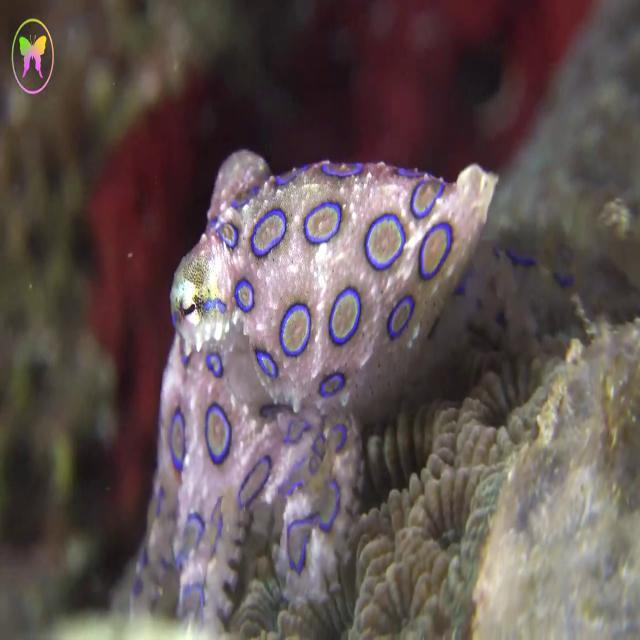octopus: (118, 139, 501, 640)
